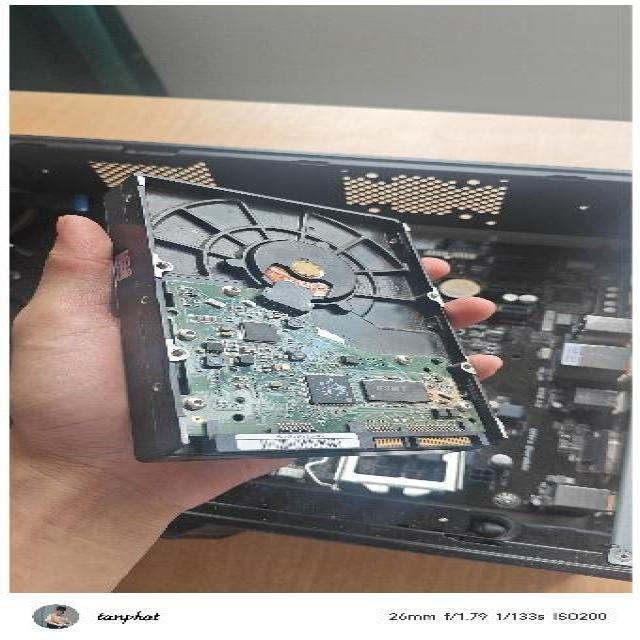DISK: (97, 170, 517, 463)
